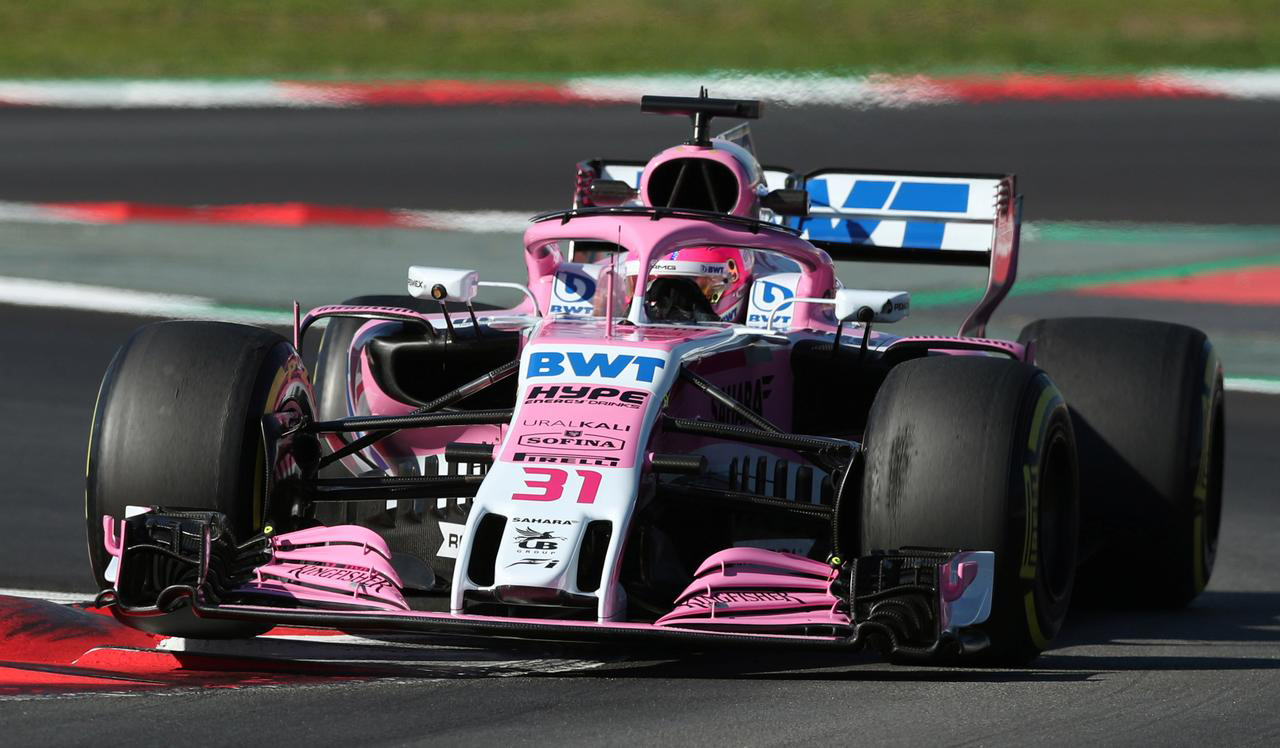F1 Car: (78, 79, 1232, 687)
